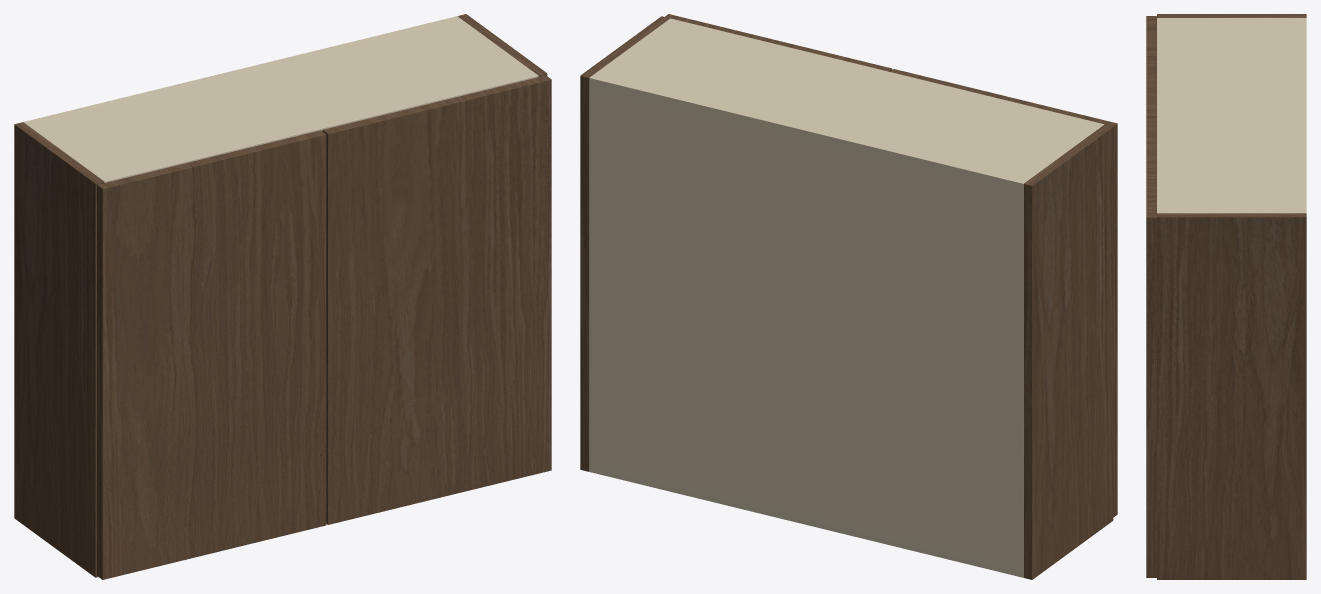
File: oppein-ply-mso-w3630.glb
3 views of the same model, side by side, from view 1: azimuth 30°, elevation 25°; view 2: azimuth 150°, elevation 25°; view 3: azimuth 270°, elevation 25° (orthographic). The views are drawn at different scales.
Parts seen in each view (by area): view 1: Door, Door.001, Cabinet top, Cabinet side, Cabinet back, Cabinet side.001; view 2: Cabinet back, Cabinet side, Cabinet top, Cabinet side.001, Cabinet bottom, Door, Door.001; view 3: Cabinet side.001, Cabinet top, Door.001, Cabinet back, Door, Cabinet side.
Boxes of the visible parts, <box> form: Door: <box>97,130,326,579</box>; Door.001: <box>322,75,551,524</box>; Cabinet top: <box>23,18,538,182</box>; Cabinet side: <box>14,122,104,577</box>; Cabinet back: <box>24,16,459,124</box>; Cabinet side.001: <box>458,14,547,76</box>; Cabinet back: <box>589,76,1025,577</box>; Cabinet side: <box>1023,124,1113,579</box>; Cabinet top: <box>589,18,1104,191</box>; Cabinet side.001: <box>580,16,669,471</box>; Cabinet bottom: <box>589,463,1023,577</box>; Door: <box>890,69,1117,517</box>; Door.001: <box>665,14,892,71</box>; Cabinet side.001: <box>1157,213,1306,579</box>; Cabinet top: <box>1157,18,1306,213</box>; Door.001: <box>1146,117,1156,577</box>; Cabinet back: <box>1300,18,1306,213</box>; Door: <box>1146,16,1156,117</box>; Cabinet side: <box>1157,14,1306,17</box>.
Bounding box in the file's own units: 0.9144 × 0.762 × 0.3048.
Materials: 2 (1 with a texture image).
